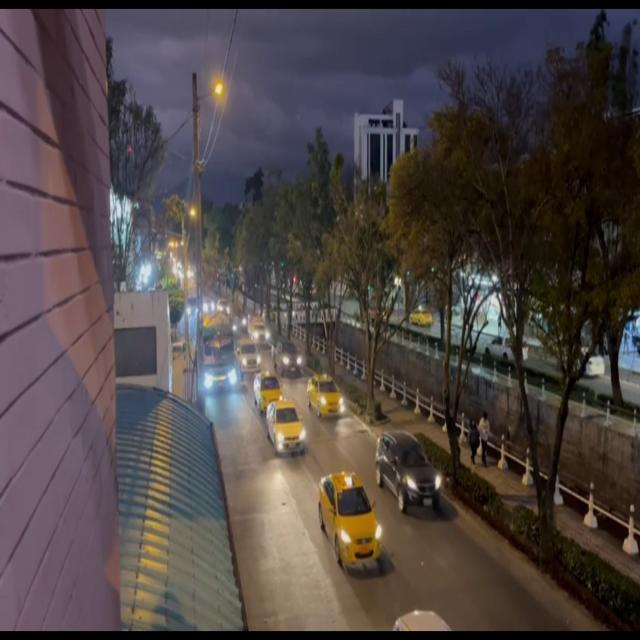BUS: (202, 320, 236, 394)
CMT: (272, 340, 300, 373)
